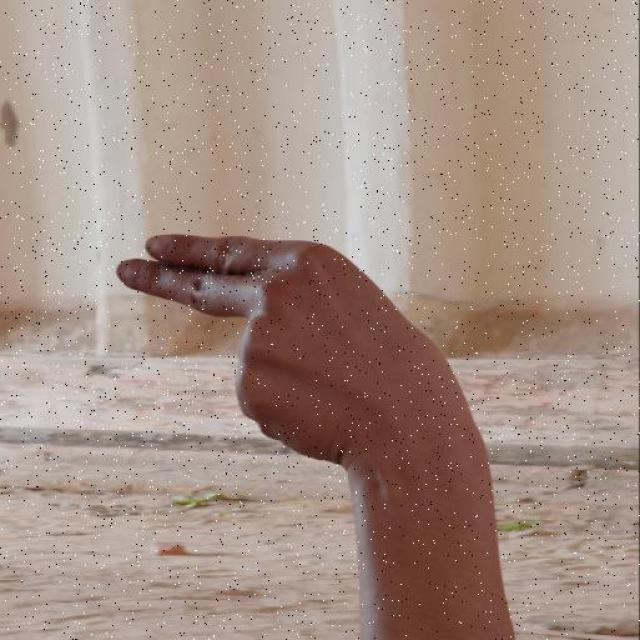H: (110, 219, 492, 452)
